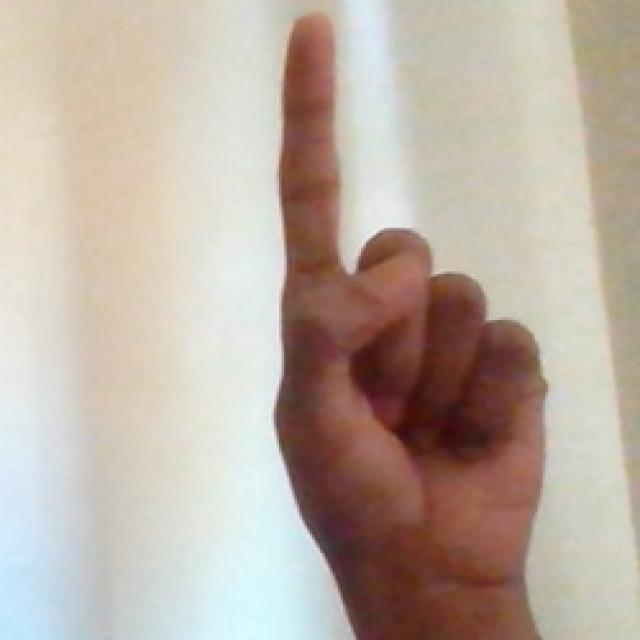Numeric-1: (280, 9, 543, 589)
